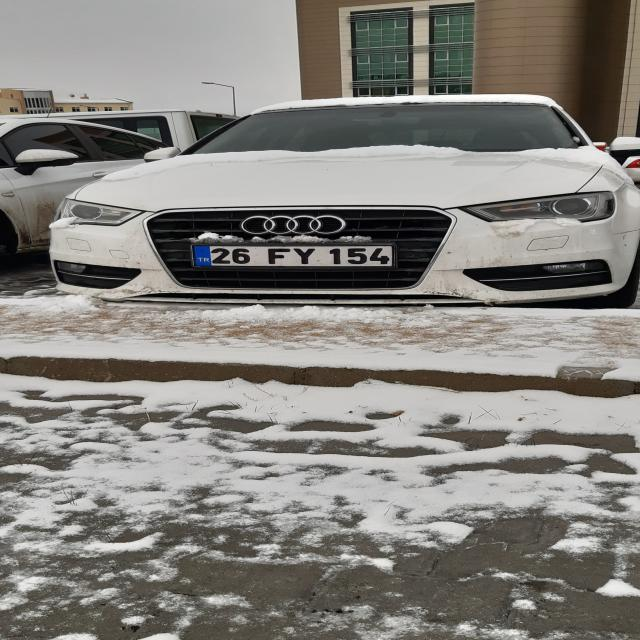plate: (191, 245, 394, 266)
